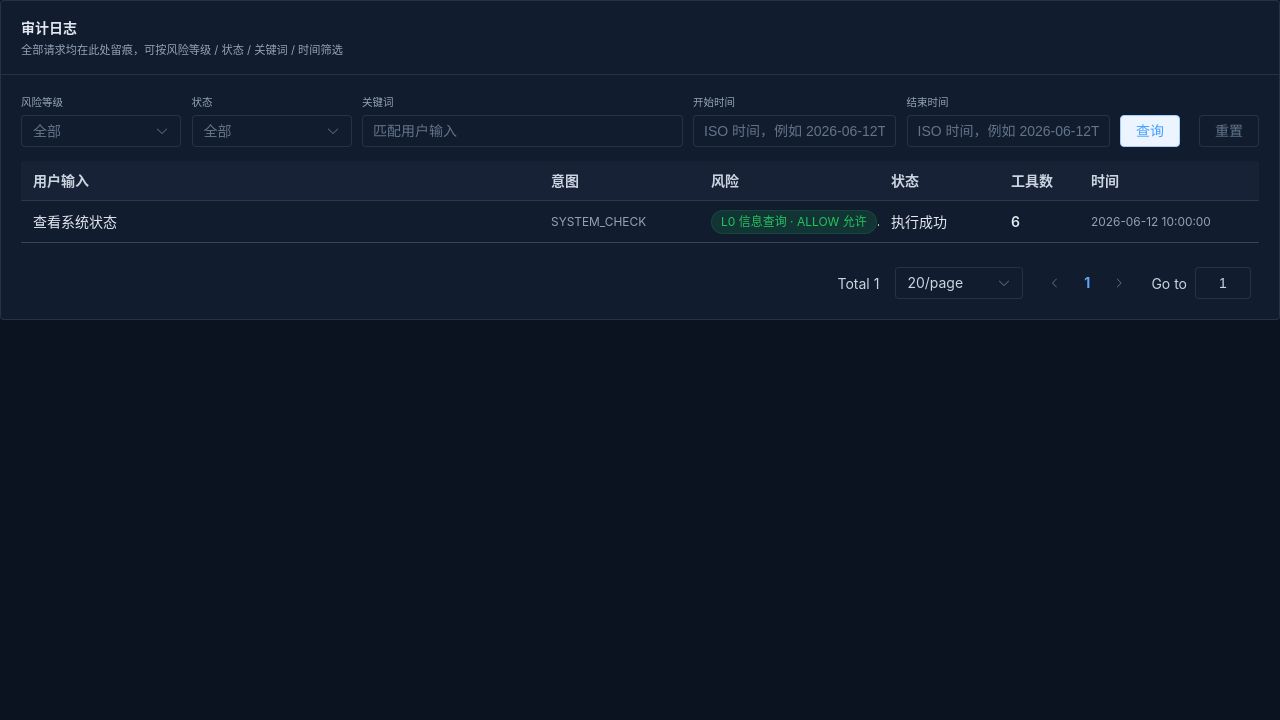
Test case: AuditLog page — detail drawer › shows Chinese error in the drawer when getAuditDetail rejects
Click the text with test id "audit-row-a-404": (75, 221) [33,213,117,230]
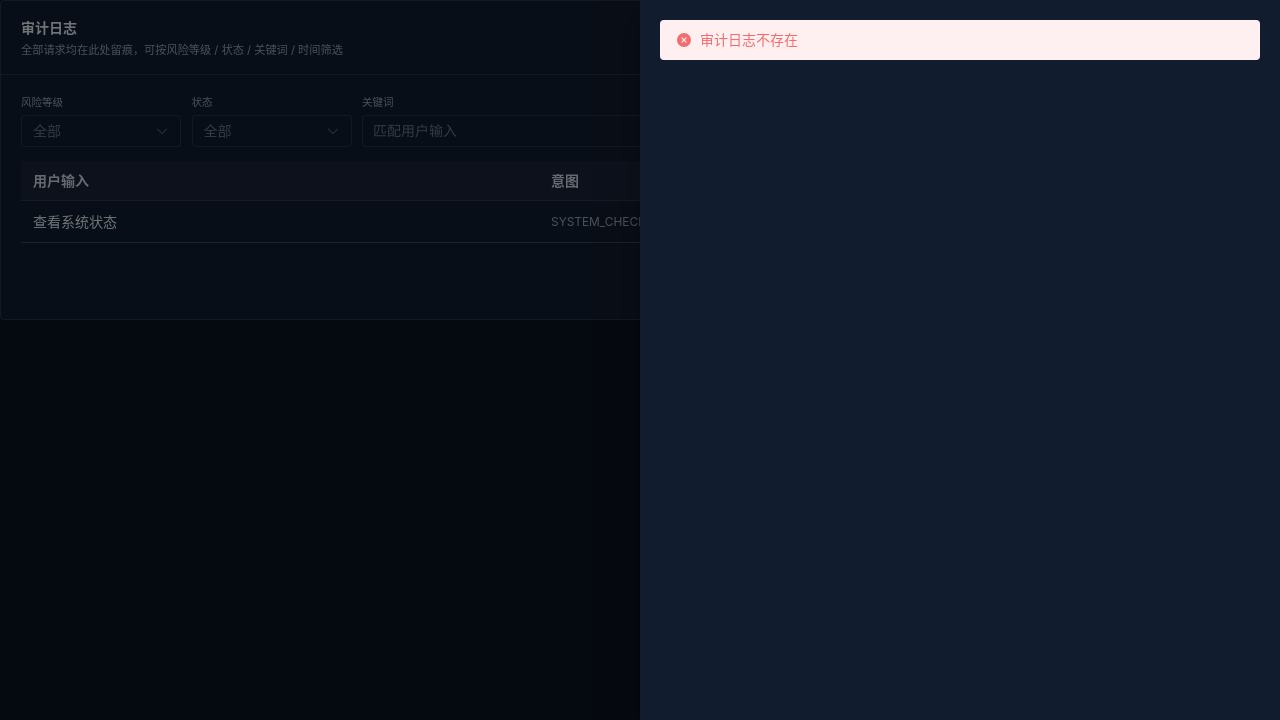
Result: the element with test id "audit-detail-error" is shown at [660,20,1260,60]
Result: the text "审计日志不存在" is shown at [700,28,798,52]
